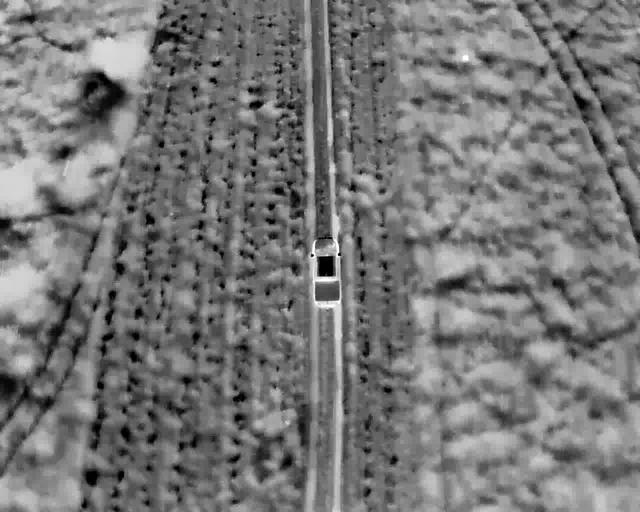car: (309, 237, 342, 306)
